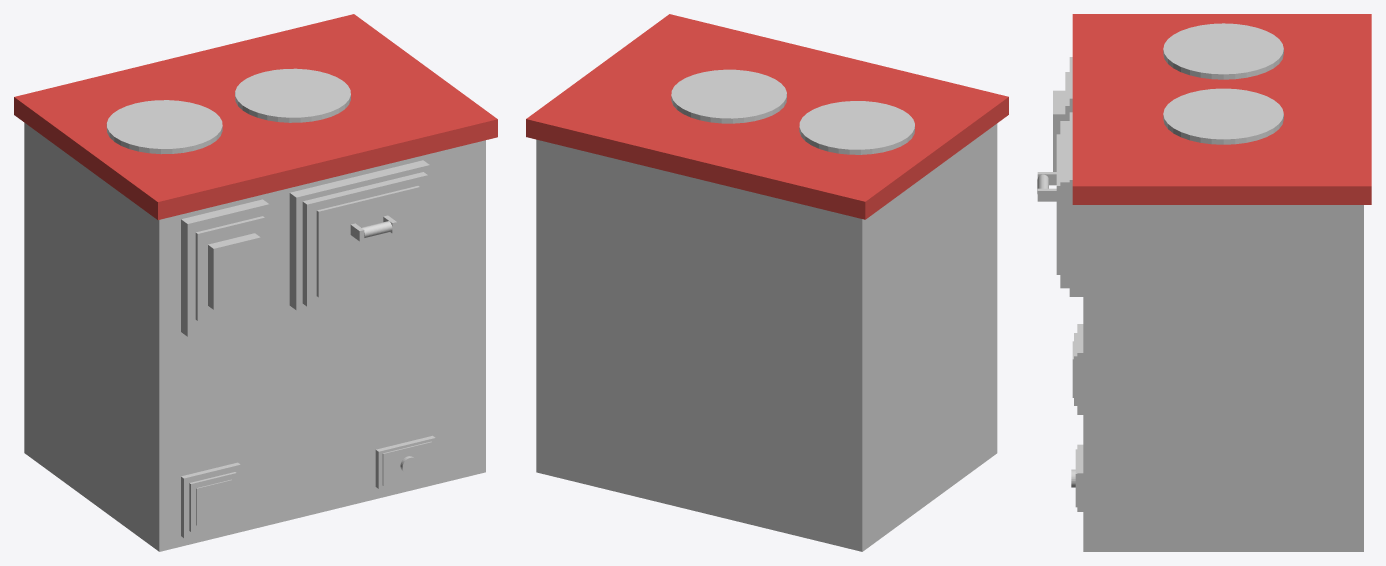
File: Hella.fbx
3 renders of one model, left to right at view 1: azimuth 30°, elevation 25°; view 2: azimuth 150°, elevation 25°; view 3: azimuth 270°, elevation 25°, orthographic. The views are drawn at different scales.
Parts seen in each view (by area): view 1: Cube, Cube.002, Cube.001; view 2: Cube, Cube.002, Cube.001; view 3: Cube, Cube.002, Cube.001.
Boxes of the visible parts, <box> form: Cube: <box>24,123,485,551</box>; Cube.002: <box>14,14,497,219</box>; Cube.001: <box>106,68,435,537</box>; Cube: <box>536,123,997,551</box>; Cube.002: <box>526,14,1008,219</box>; Cube.001: <box>671,69,914,154</box>; Cube: <box>1083,205,1363,551</box>; Cube.002: <box>1072,14,1371,204</box>; Cube.001: <box>1037,23,1283,511</box>.
Bounding box in the file's own units: 208 × 211 × 170.
